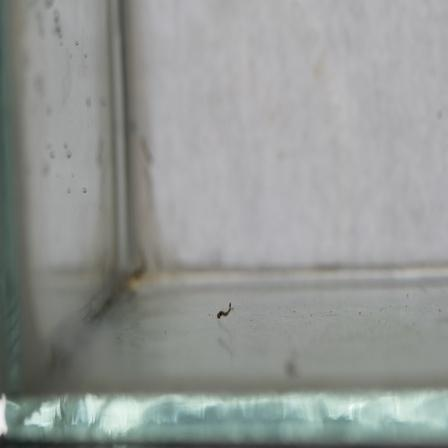Jentik-Nyamuk: (213, 299, 237, 326)
